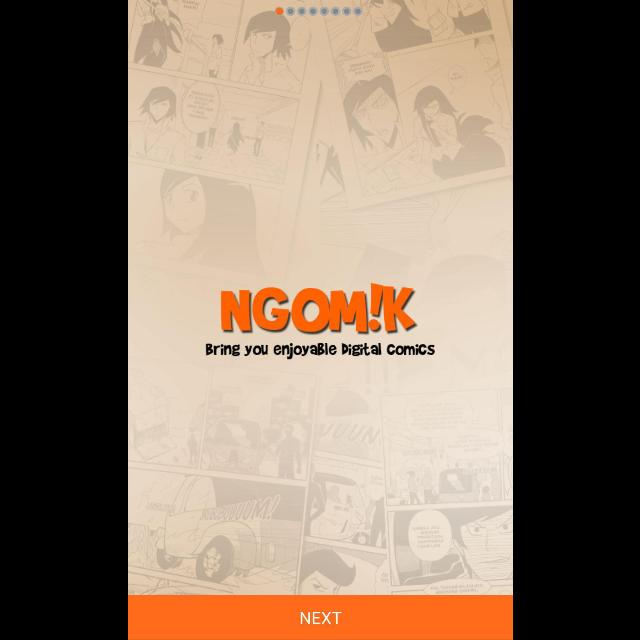backgroundimage: (128, 1, 512, 595)
image: (220, 283, 416, 333)
pageindicator: (274, 7, 362, 17)
text: (204, 342, 434, 360)
textbutton: (128, 596, 512, 640)
